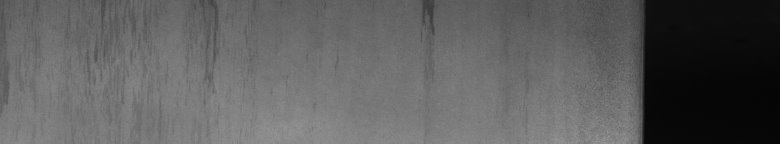ka: (87, 4, 135, 61)
